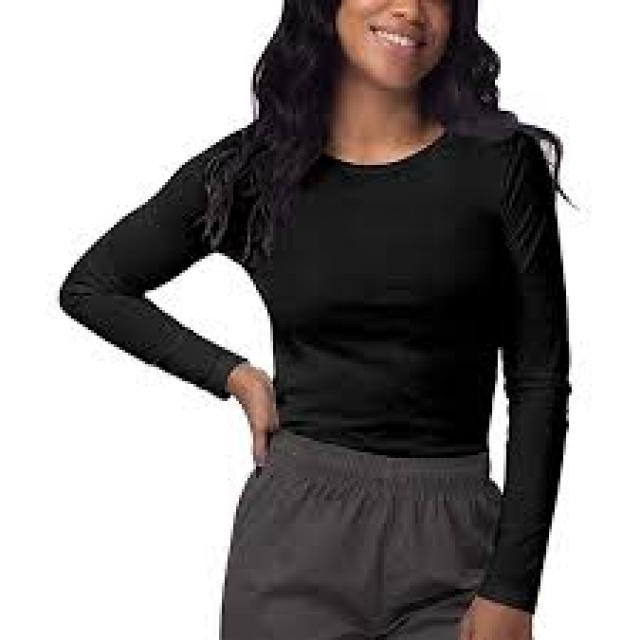plain: (56, 107, 572, 449)
